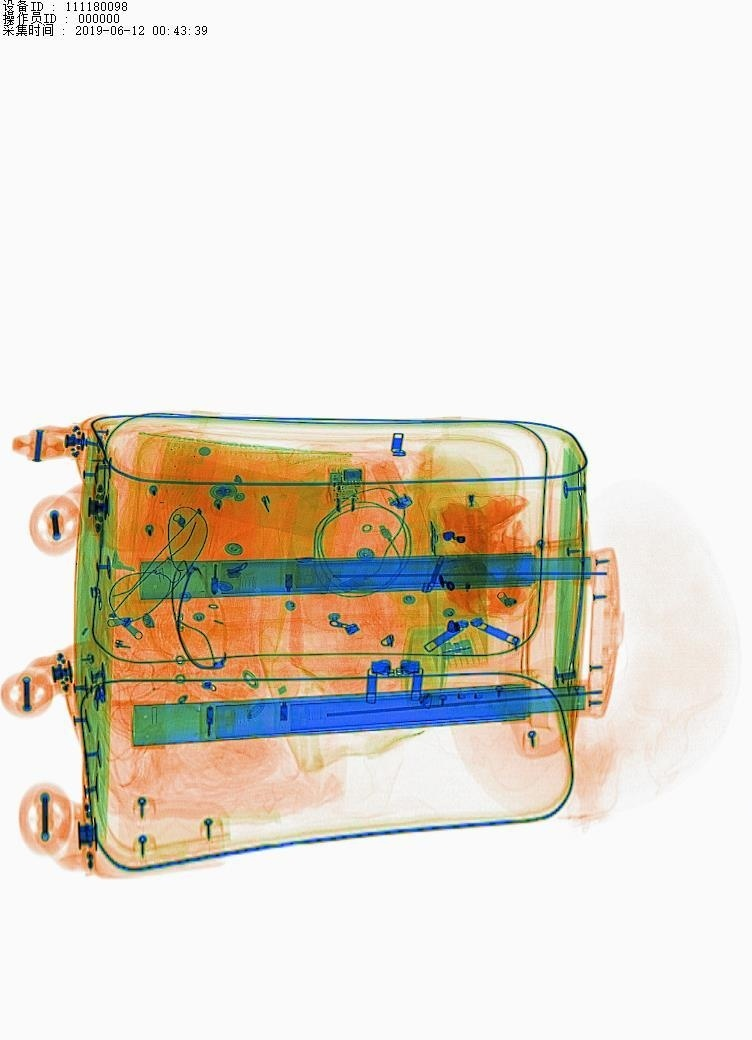NonmetallicFire: (361, 431, 458, 519)
